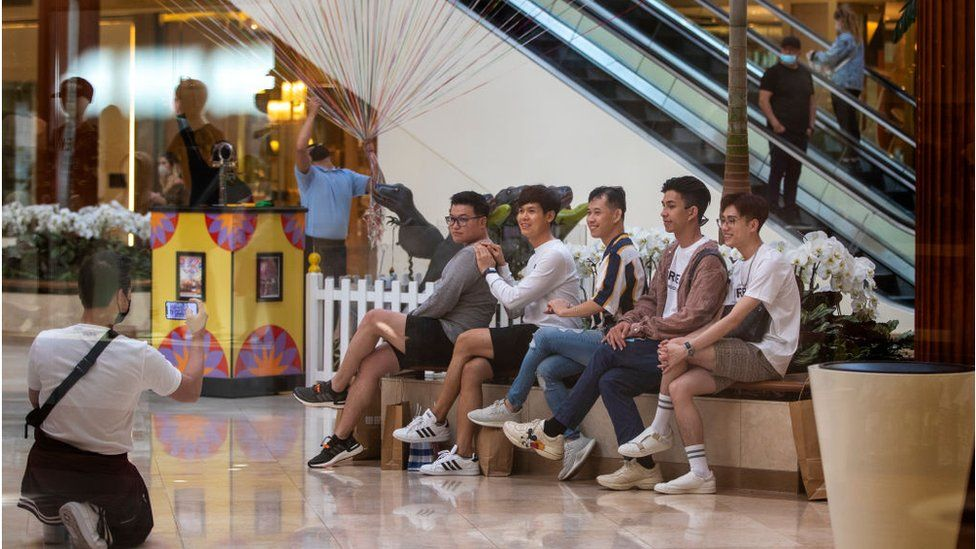without_mask: (655, 193, 687, 234), (582, 199, 613, 235), (715, 210, 744, 247), (447, 206, 472, 243), (516, 201, 541, 235)
